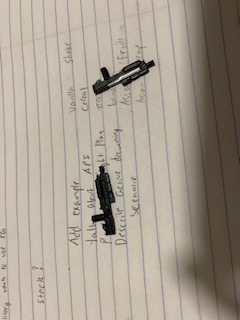rifle: (90, 59, 157, 96), (91, 162, 118, 238)
